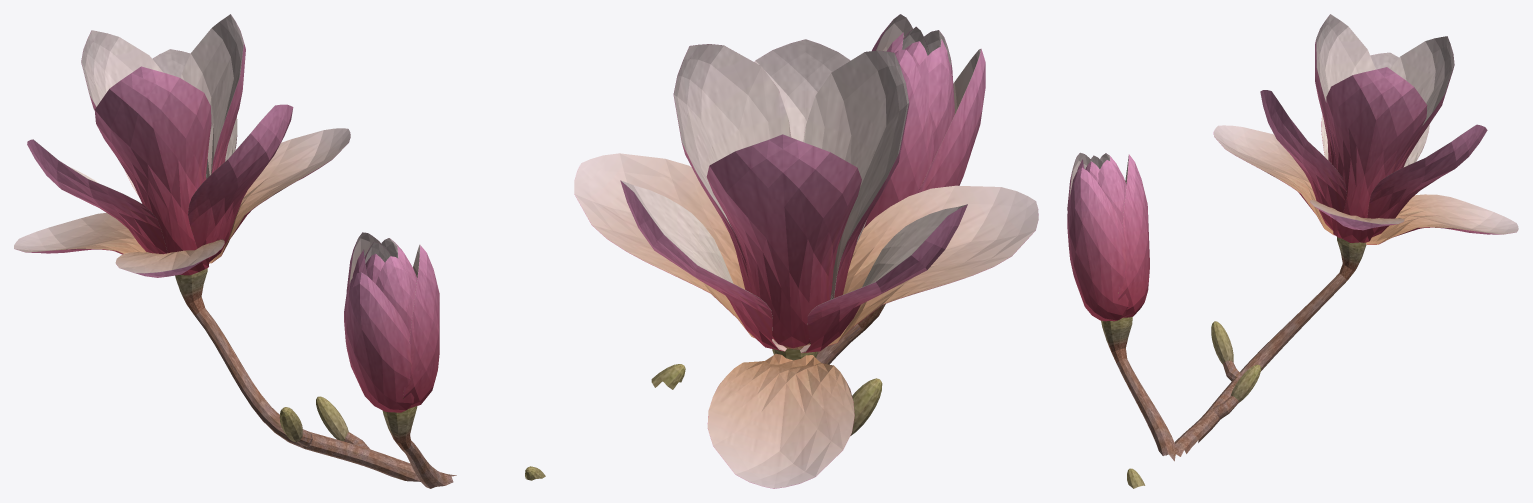
3 renders of one model, left to right at view 1: azimuth 30°, elevation 25°; view 2: azimuth 150°, elevation 25°; view 3: azimuth 270°, elevation 25°, orthographic. The views are drawn at different scales.
Visible parts, largest first — view 1: d8136074; view 2: d8136074; view 3: d8136074.
Part boxes in pixels (left/top/right/bottom): d8136074: left=14, top=14, right=545, bottom=488; d8136074: left=574, top=14, right=1038, bottom=488; d8136074: left=1067, top=14, right=1518, bottom=488.
Bounding box in the file's own units: 0.1783 × 0.1876 × 0.2171.
Materials: 1 (1 with a texture image).
